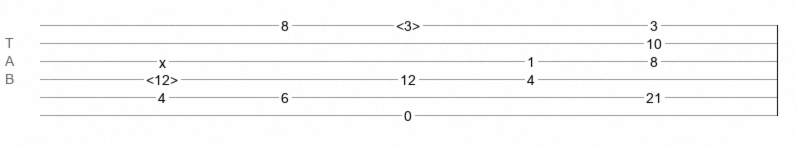0: (404, 108, 412, 118)
1: (527, 54, 535, 64)
10: (646, 36, 662, 46)
12: (400, 72, 416, 82)
21: (646, 90, 662, 100)
3: (650, 18, 658, 28)
4: (158, 90, 166, 100), (527, 72, 535, 82)
6: (281, 90, 289, 100)
8: (281, 18, 289, 28), (650, 54, 658, 64)
harmonic: (146, 72, 178, 82), (396, 18, 420, 28)
x: (159, 55, 166, 63)
